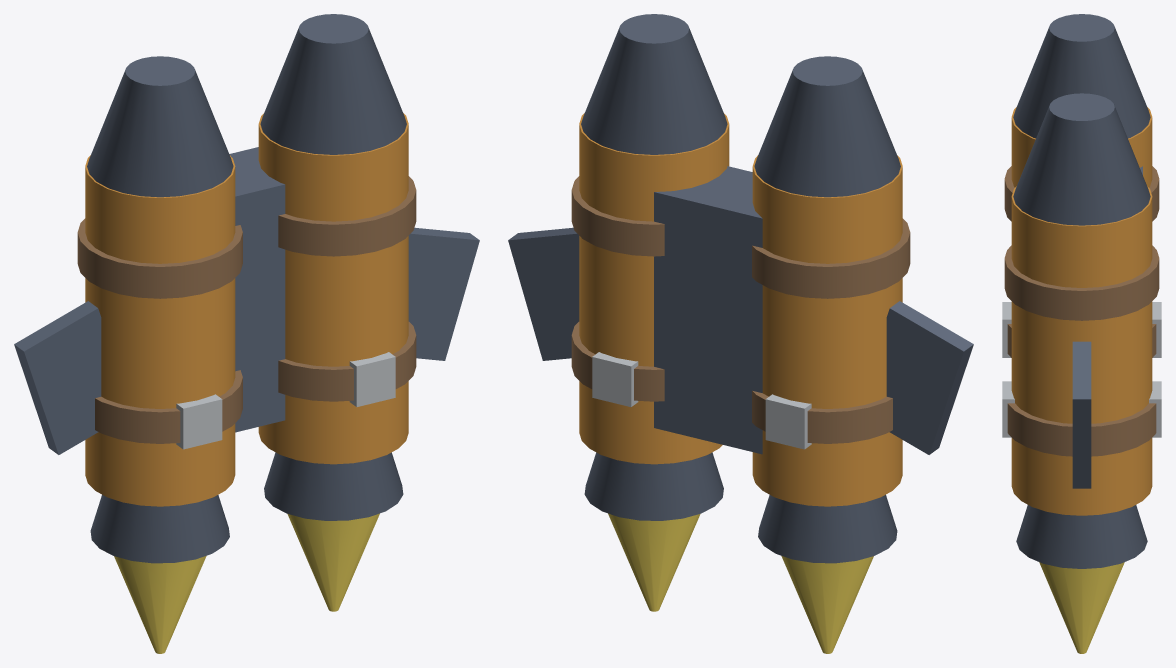
The model's file is 04_jetpack_firehawk.glb.
3 views of the same model, side by side, from view 1: azimuth 30°, elevation 25°; view 2: azimuth 150°, elevation 25°; view 3: azimuth 270°, elevation 25° (orthographic). The views are drawn at different scales.
Visible parts, largest first — view 1: JetpackFirehawk; view 2: JetpackFirehawk; view 3: JetpackFirehawk.
Part boxes in pixels (left/top/right/bottom): JetpackFirehawk: left=14, top=14, right=479, bottom=653; JetpackFirehawk: left=508, top=14, right=973, bottom=653; JetpackFirehawk: left=1002, top=14, right=1161, bottom=653.
Size of the model in its own units: 1.05 by 1.28 by 0.34.
